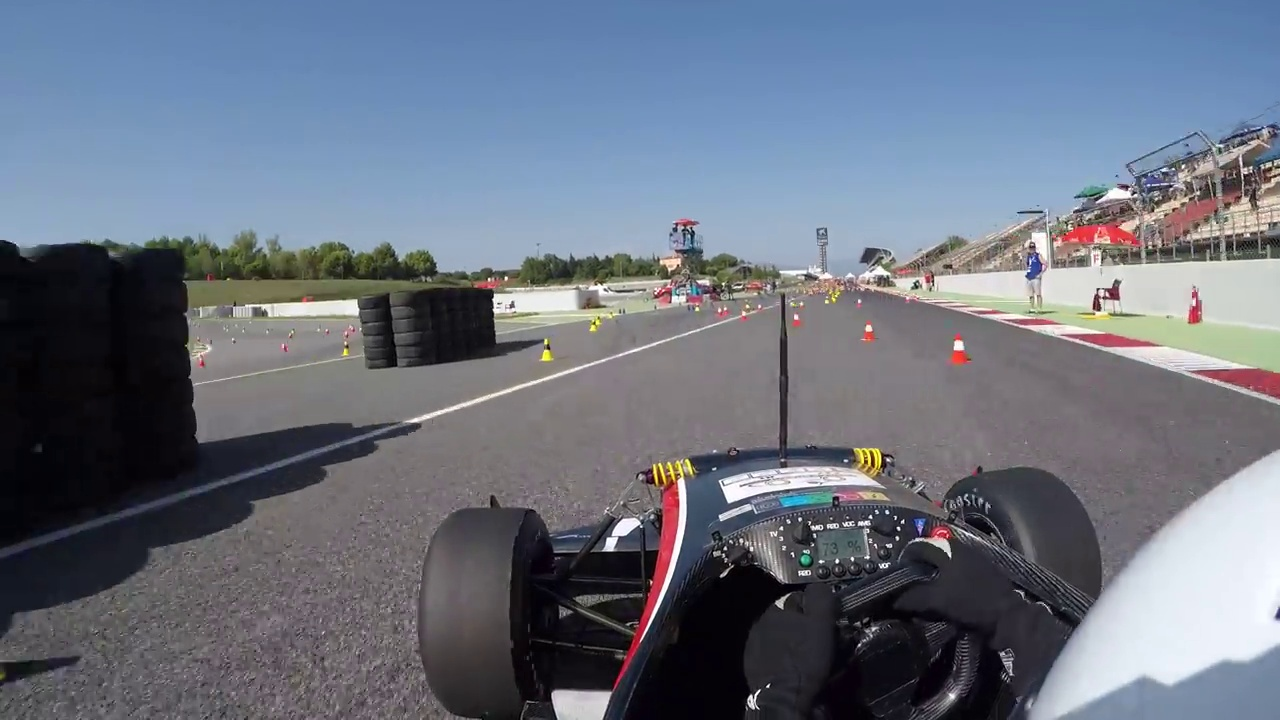Cone: (950, 329, 972, 367)
